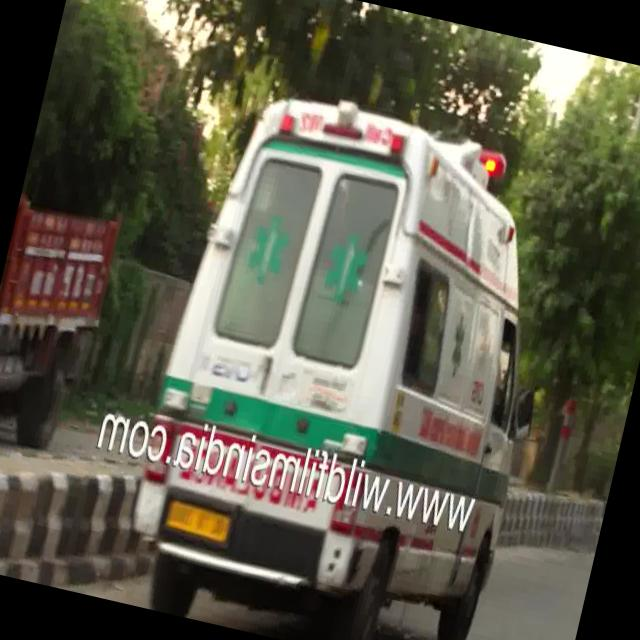ambulance: (145, 59, 586, 487)
